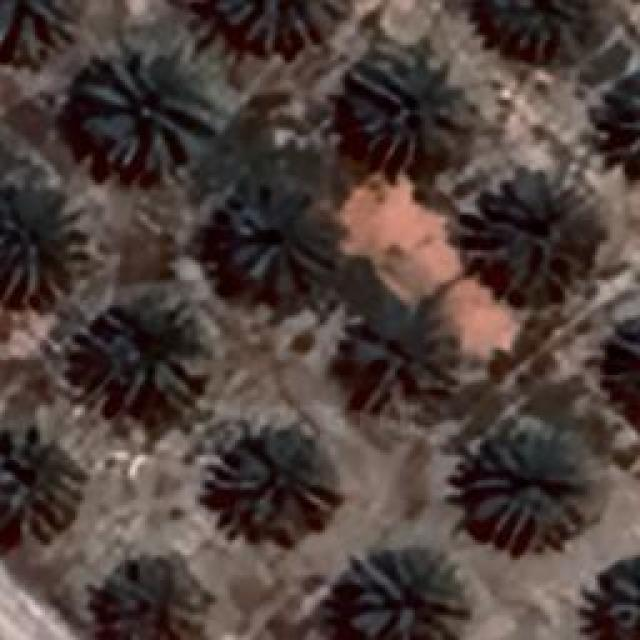PalmTree: (82, 39, 218, 172), (462, 425, 590, 550), (345, 42, 470, 170), (210, 425, 340, 540), (478, 178, 592, 300), (345, 290, 460, 410), (94, 292, 208, 408), (222, 180, 336, 290), (342, 547, 470, 635), (0, 182, 85, 302), (0, 428, 80, 538), (100, 552, 202, 638), (587, 292, 640, 432), (217, 0, 350, 52), (587, 62, 640, 177), (490, 0, 588, 60), (582, 550, 638, 640), (0, 0, 80, 62)
